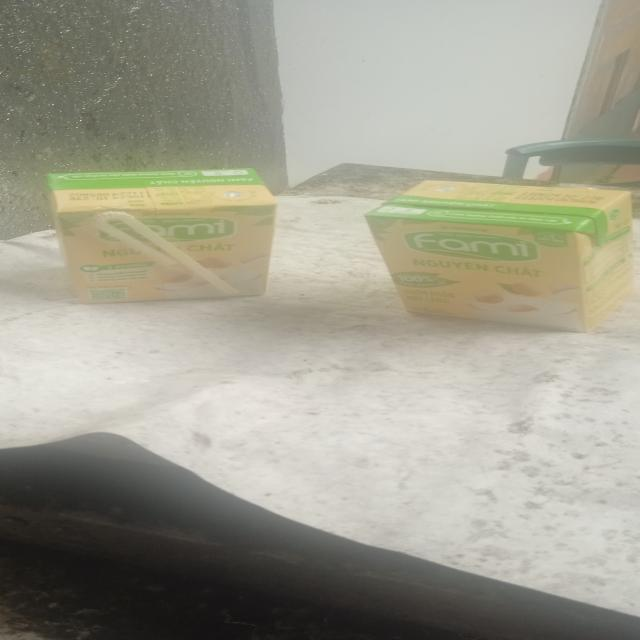Fami: (363, 180, 639, 334), (46, 169, 281, 307)
